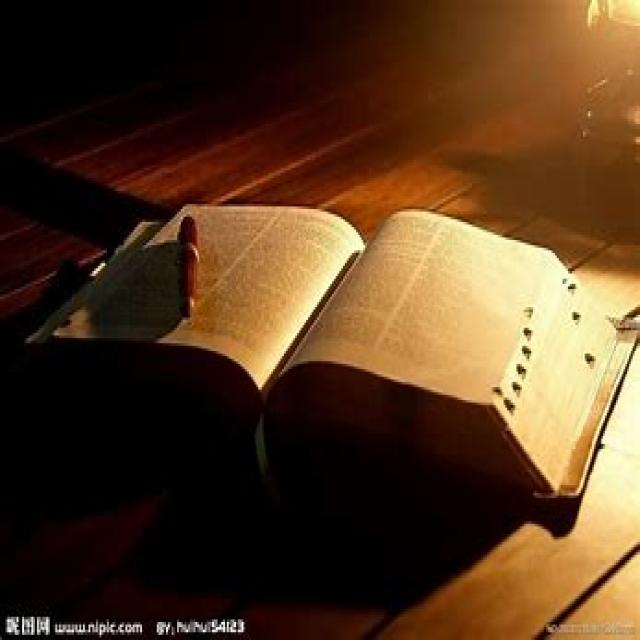pen: (7, 159, 637, 566)
